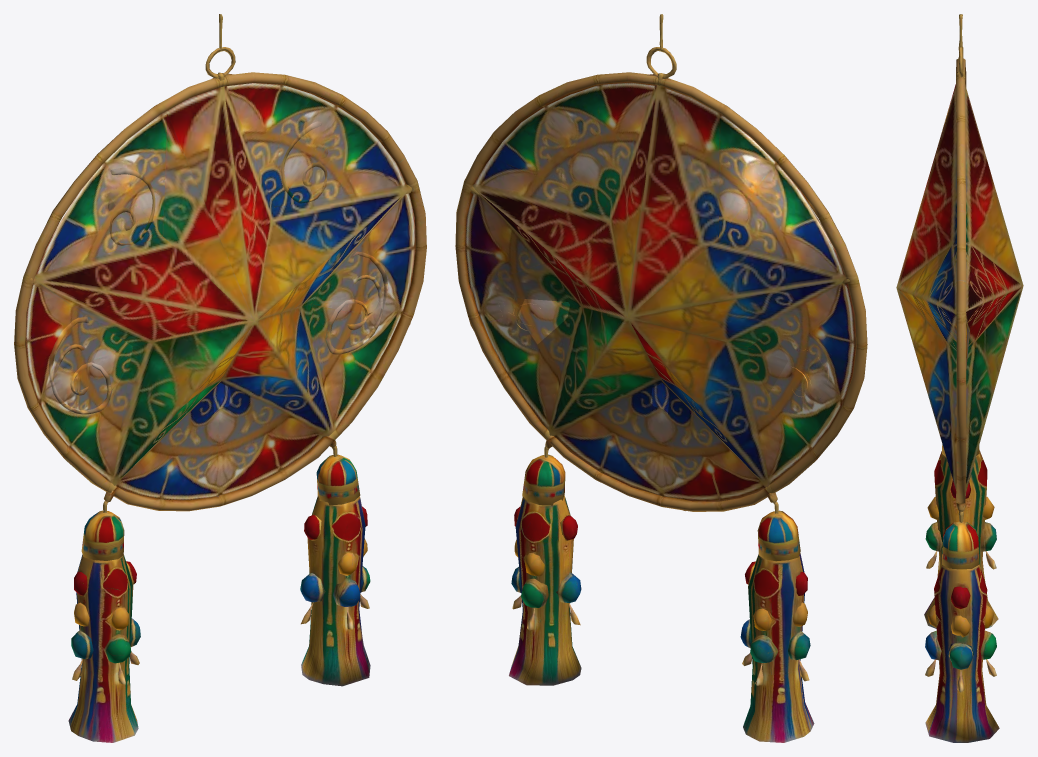
Rendered from parol-giant.glb.
The picture shows the model from 3 angles, left to right: view 1: azimuth 30°, elevation 25°; view 2: azimuth 150°, elevation 25°; view 3: azimuth 270°, elevation 25°; orthographic projection. The views are drawn at different scales.
Parts seen in each view (by area): view 1: geometry_0; view 2: geometry_0; view 3: geometry_0.
Part boxes in pixels (bbox=[...]): geometry_0: bbox=[14, 14, 426, 742]; geometry_0: bbox=[455, 14, 867, 742]; geometry_0: bbox=[896, 14, 1023, 742].
Size of the model in its own units: 0.6306 by 1 by 0.1748.
1 material, 1 textured.
